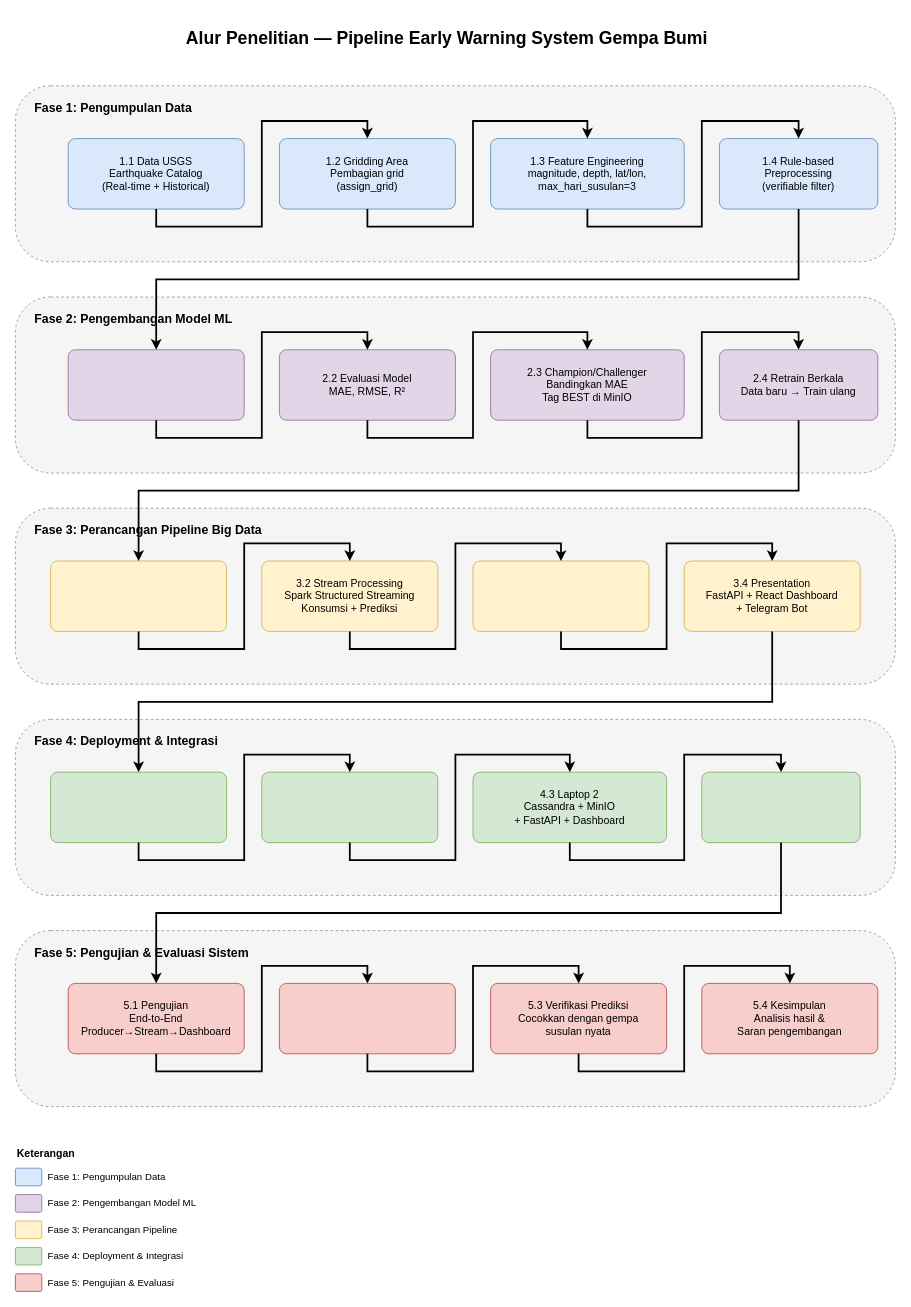
Image size: 911x1307. Some labels were removed from this diagram. The box of each missing label's shape, as (x1, y1, x2, y2) in pixels:
2.1 Training Random Forest Regressor (Spark MLlib): (67, 349, 244, 420)
3.1 Data Ingestion USGS → Producer → Kafka (VPS Docker): (50, 560, 227, 631)
3.3 Storage Cassandra (events) MinIO (model + metrics): (472, 560, 649, 631)
4.1 VPS Zookeeper + Kafka + Producer (Docker): (50, 771, 227, 843)
4.2 Laptop 1 Spark Streaming + Catchup USGS: (261, 771, 438, 843)
4.4 Notifikasi Telegram Bot Alert real-time: (701, 771, 860, 843)
5.2 Performa Model MAE Champion vs Challenger: (279, 983, 455, 1054)
